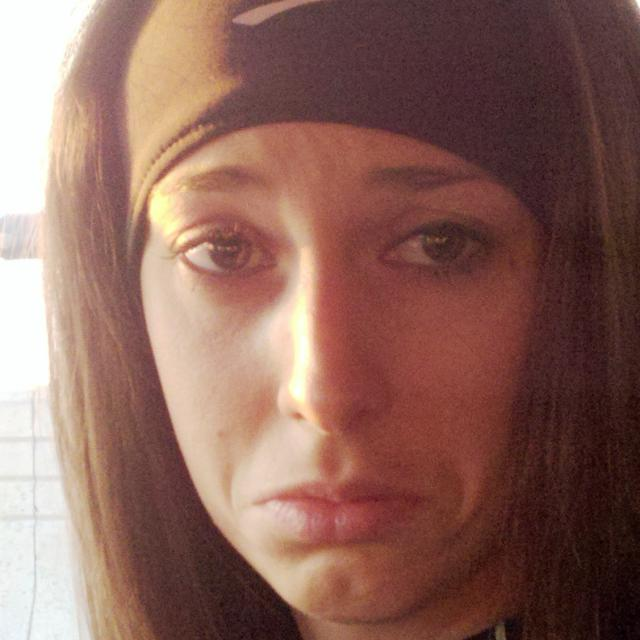Depress: (136, 117, 574, 625)
